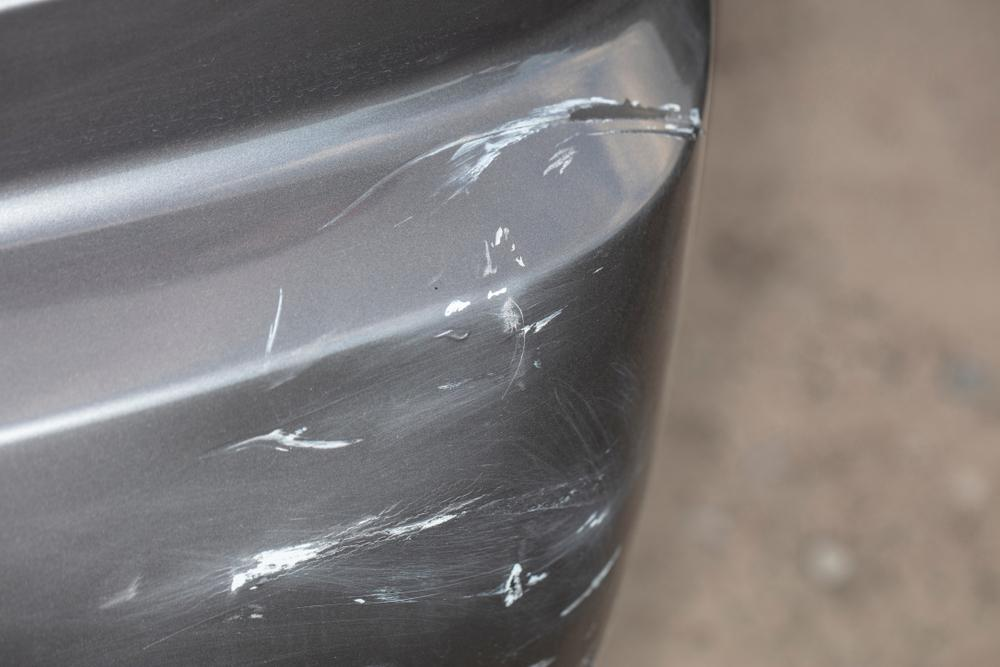scratch: (91, 91, 710, 667)
